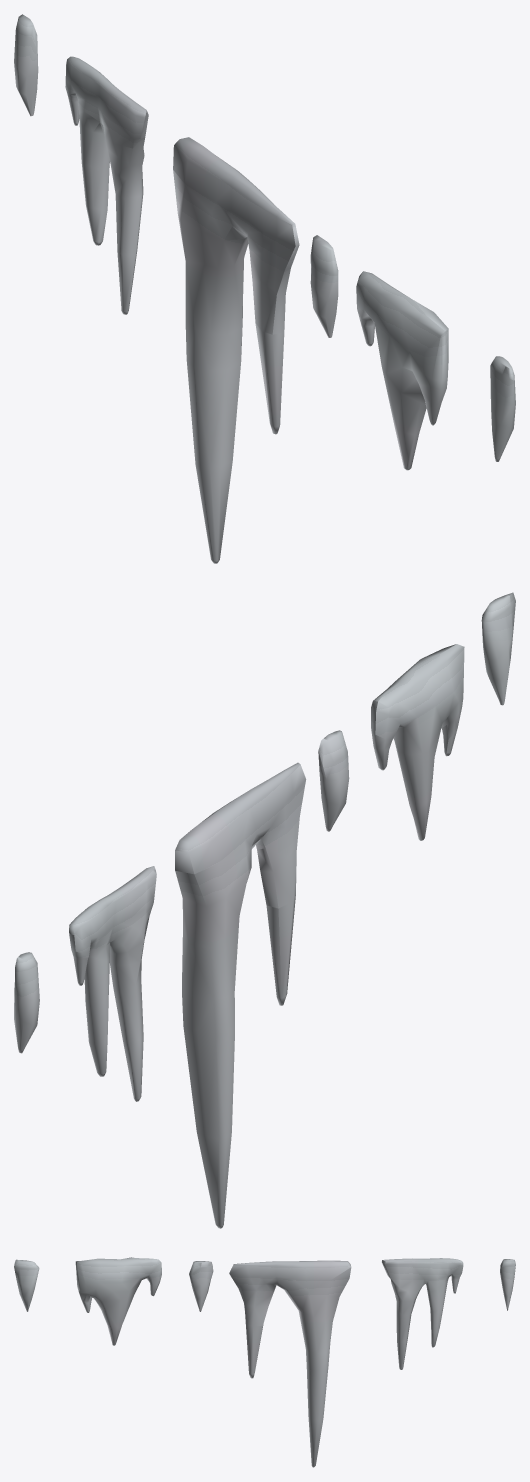
3 renders of one model, top to bottom at view 1: azimuth 30°, elevation 25°; view 2: azimuth 150°, elevation 25°; view 3: azimuth 270°, elevation 25°, orthographic. The views are drawn at different scales.
Parts seen in each view (by area): view 1: body0_model0_lod0_mesh0; view 2: body0_model0_lod0_mesh0; view 3: body0_model0_lod0_mesh0.
Part boxes in pixels (x1,y1,x2,y2): body0_model0_lod0_mesh0: (14,14,515,563); body0_model0_lod0_mesh0: (14,592,515,1228); body0_model0_lod0_mesh0: (14,1257,515,1467).
Size of the model in its own units: 3 by 22.68 by 49.51.
1 material, 1 textured.
